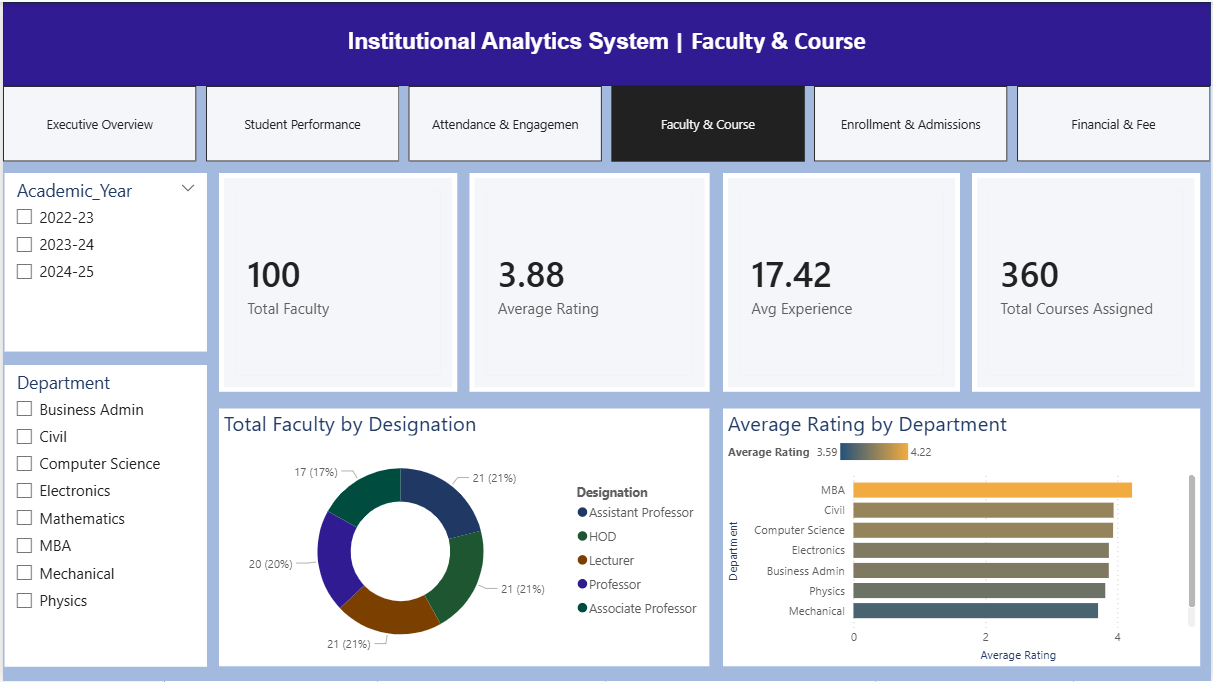

What the dashboard file says about the page in this screenshot:
{"tool":"powerbi","page":{"name":"Faculty & Course","canvas":[1280,720],"ordinal":3},"visuals":[{"type":"shape","box":[0,0,1280.8,89.1],"z":0},{"type":"textbox","box":[0,19.4,1280.8,69.6],"z":1000},{"type":"pageNavigator","box":[0,89.1,1280.8,81],"z":2000},{"type":"slicer","fields":{"Values":["Students_Master.Academic_Year"]},"box":[1.6,181.3,214.7,189.3],"z":3000},{"type":"slicer","fields":{"Values":["Students_Master.Department"]},"box":[1.6,384.9,214.7,319.7],"z":4000},{"type":"cardVisual","fields":{"Data":["Admissions.Total Faculty"]},"box":[229,181.3,252.9,232.2],"z":5000},{"type":"cardVisual","fields":{"Data":["Admissions.Average Rating"]},"box":[494.7,181.3,254.5,232.2],"z":6000},{"type":"cardVisual","fields":{"Data":["Admissions.Avg Experience"]},"box":[763.5,181.3,251.3,232.2],"z":7000},{"type":"cardVisual","fields":{"Data":["Admissions.Total Courses Assigned"]},"box":[1027.5,181.3,241.8,232.2],"z":8000},{"type":"donutChart","fields":{"Category":["Faculty.Designation"],"Y":["Admissions.Total Faculty"]},"box":[229,431.1,520.1,273.6],"z":9000},{"type":"clusteredBarChart","fields":{"Category":["Faculty.Department"],"Y":["Admissions.Average Rating"]},"box":[763.5,431.1,505.8,273.6],"z":10000}]}

Visuals, with their boxes in screenshot pixels (x1, y1, x2, y2), scaled from the page's 1280x720 canvas onto the 1213x682 screenshot:
shape: l=0, t=0, r=1212, b=84
textbox: l=0, t=18, r=1212, b=84
pageNavigator: l=0, t=84, r=1212, b=161
slicer - Students_Master.Academic_Year: l=2, t=172, r=205, b=351
slicer - Students_Master.Department: l=2, t=365, r=205, b=667
cardVisual - Admissions.Total Faculty: l=217, t=172, r=457, b=392
cardVisual - Admissions.Average Rating: l=469, t=172, r=710, b=392
cardVisual - Admissions.Avg Experience: l=724, t=172, r=962, b=392
cardVisual - Admissions.Total Courses Assigned: l=974, t=172, r=1203, b=392
donutChart - Faculty.Designation x Admissions.Total Faculty: l=217, t=408, r=710, b=668
clusteredBarChart - Faculty.Department x Admissions.Average Rating: l=724, t=408, r=1203, b=668
